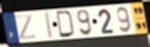2: (97, 7, 117, 36)
9: (77, 9, 93, 37), (116, 6, 132, 34)
D: (55, 10, 76, 39)
I: (45, 10, 55, 41)
Z: (15, 13, 36, 41)
